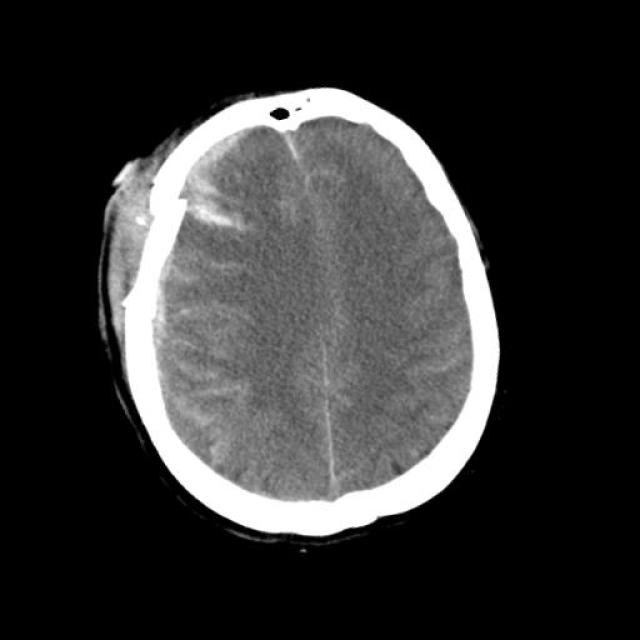Subarachnoid: (118, 243, 304, 501), (168, 183, 264, 249)
Subdural: (137, 116, 275, 217)
